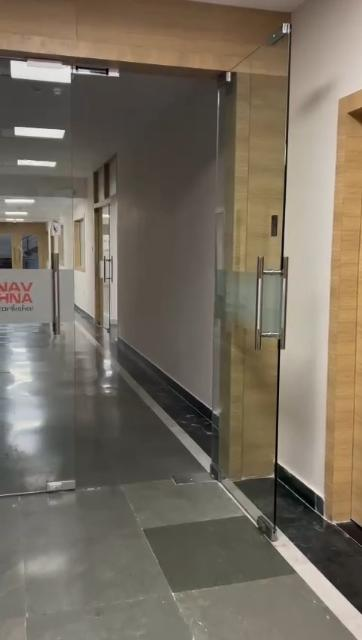door: (90, 164, 120, 330)
floor: (10, 323, 362, 640)
wall: (119, 132, 222, 402), (289, 4, 323, 492)
